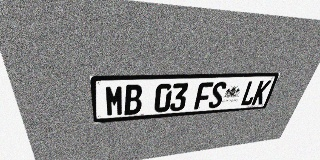0: (154, 83, 173, 113)
3: (169, 83, 189, 111)
B: (124, 84, 143, 115)
F: (194, 82, 214, 110)
K: (251, 80, 272, 105)
L: (239, 81, 260, 106)
M: (105, 85, 124, 117)
S: (207, 82, 228, 108)
